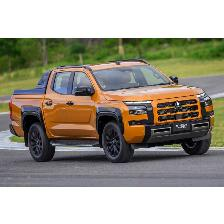NON-EV: (9, 55, 216, 164)
